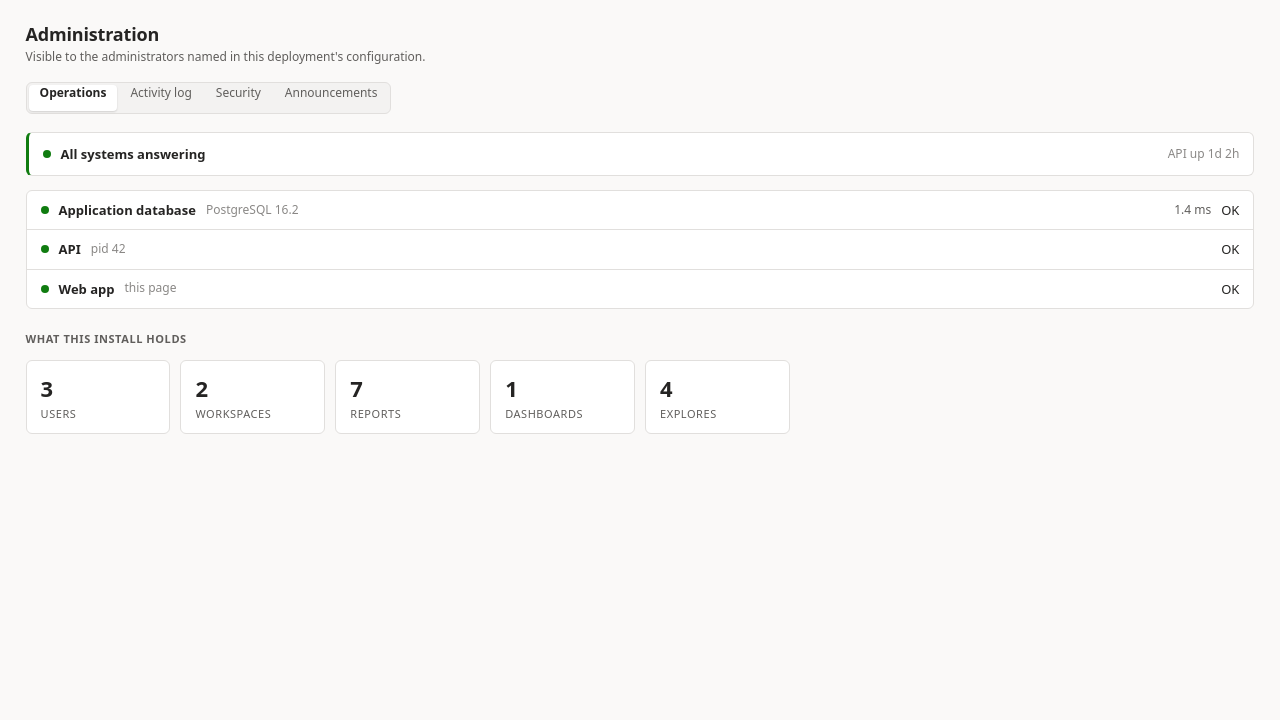
Test: the admin shell › moves between its three views without leaving the page
Expected: the text "All systems answering" is shown, [61,145,205,163]
Step 1. Click the link "Activity log" → (161, 92), box [130,84,192,101]
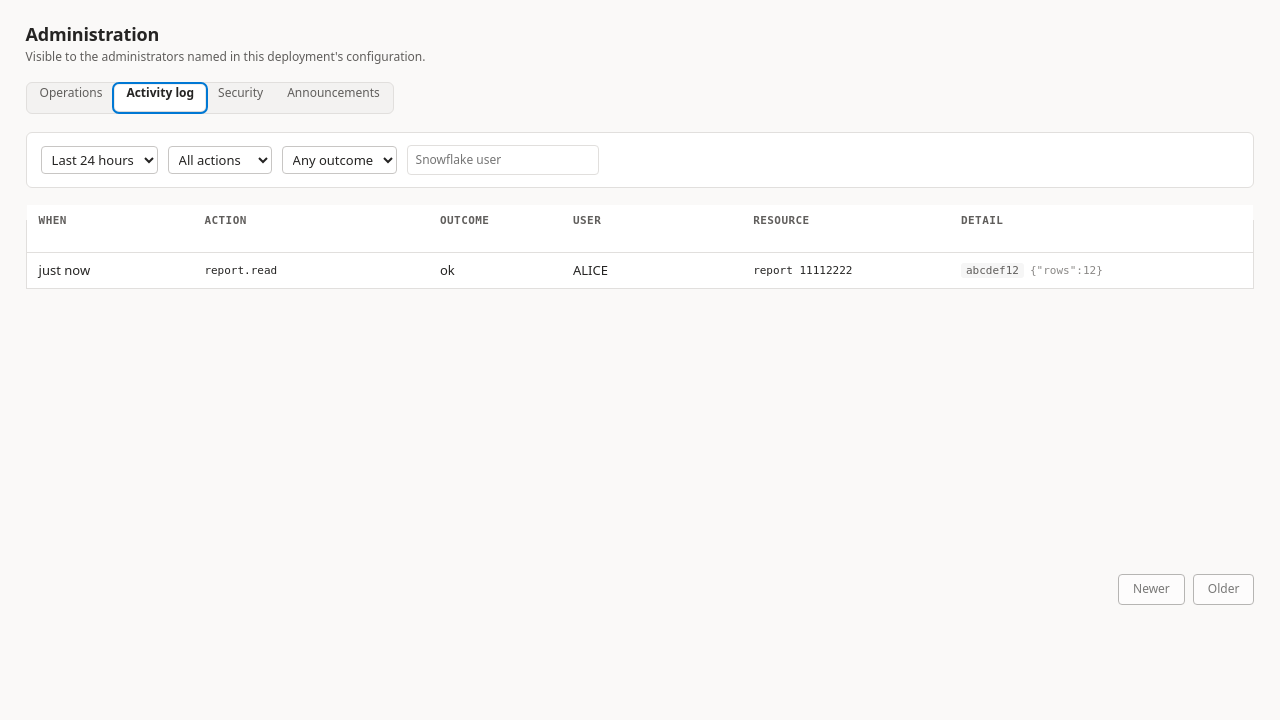
Expected: the text "ALICE" is shown, [561,253,741,288]
Step 2. Click the link "Security" → (241, 92), box [218,84,263,101]
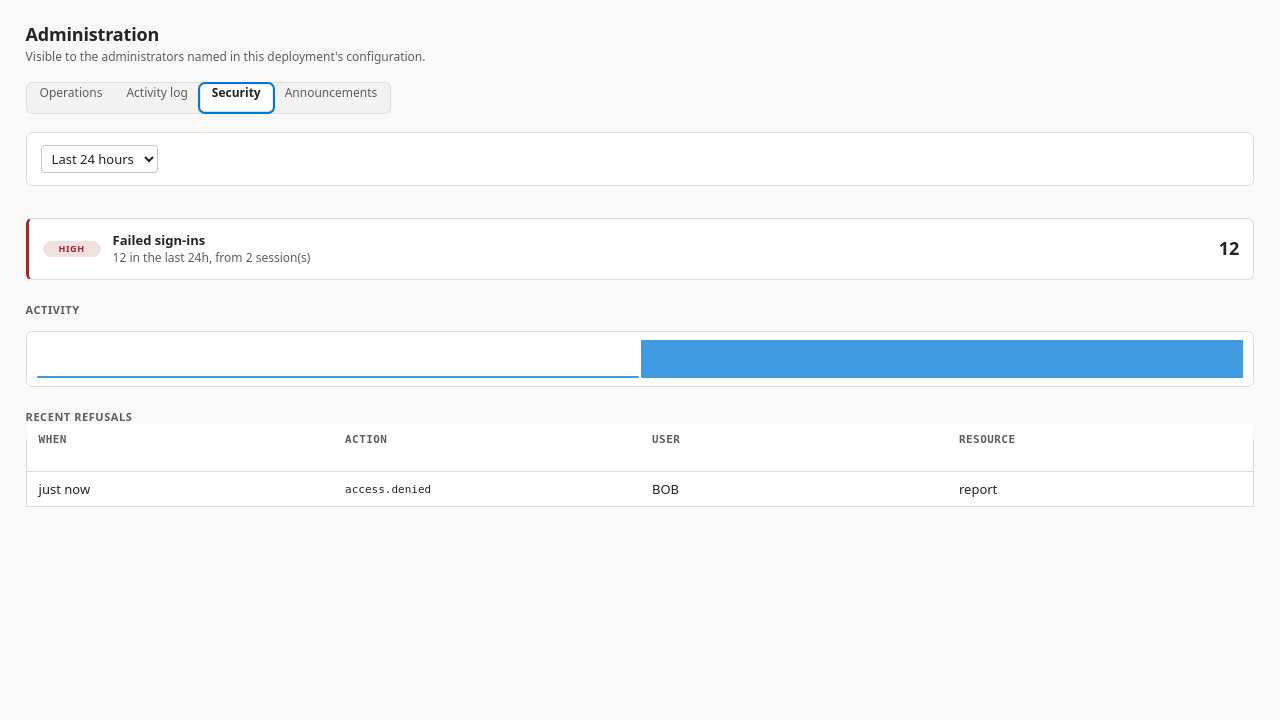
Expected: the text "Failed sign-ins" is shown, [113,231,205,249]
